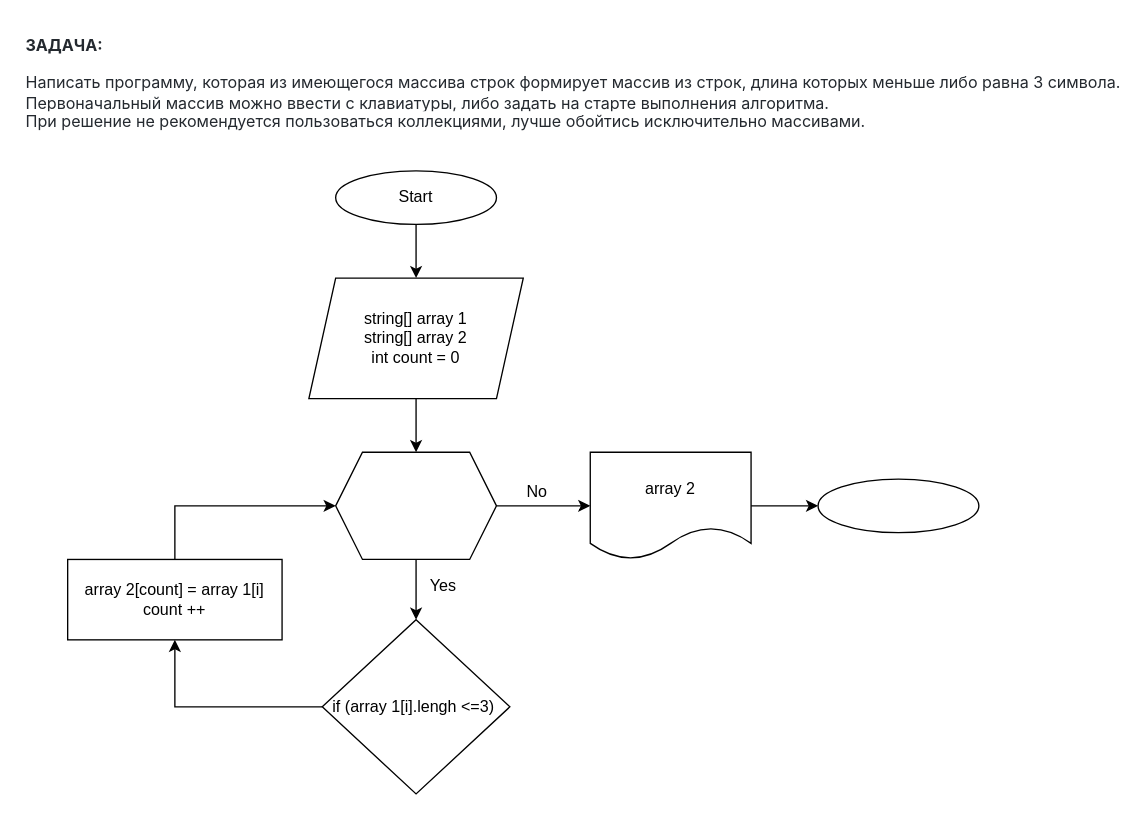
This 1143x817 diagram has some shape labels left out. Here are the shapes that lost their labels. From the top down, the centre of each, then its label:
At (x=415, y=505): "for (int i = 0; i < array 1.lengh; i++)".
At (x=898, y=505): "END".
